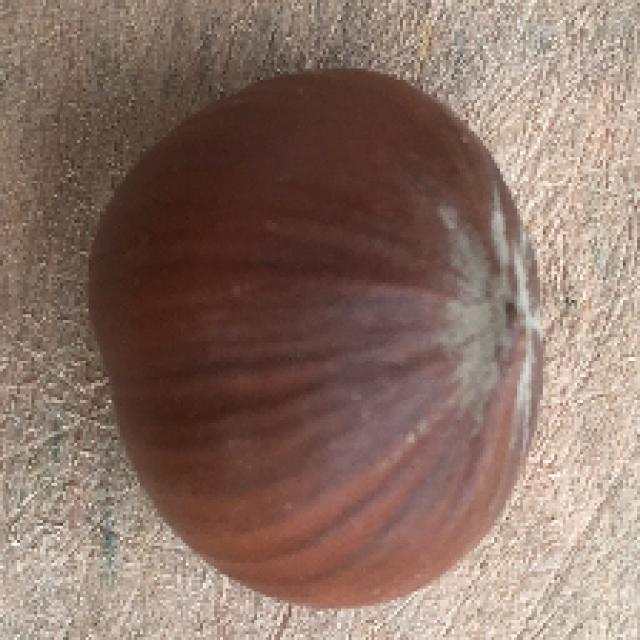DamagedHazelnut: (85, 67, 548, 609)
